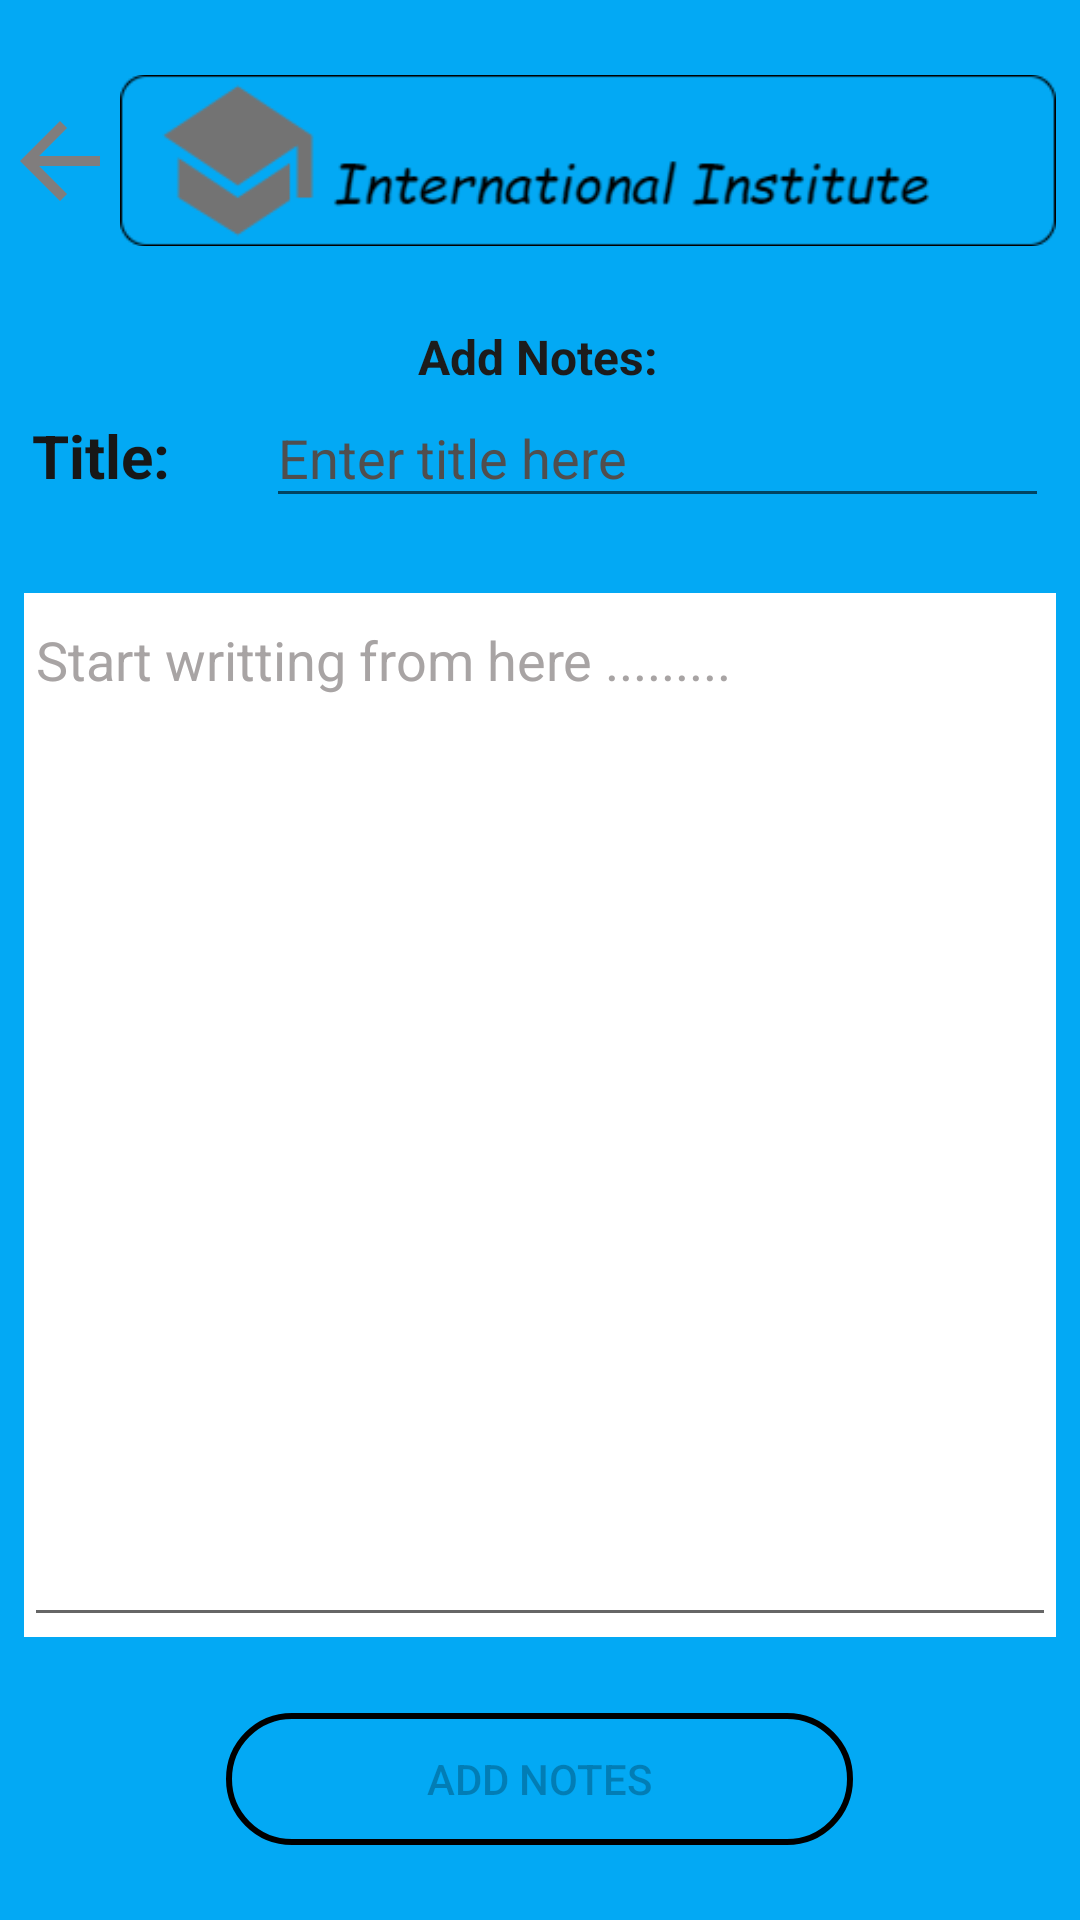

Icon click points for this 1080px x 1920px phone screenshot, format (x,y):
arrow back: (60,161)
